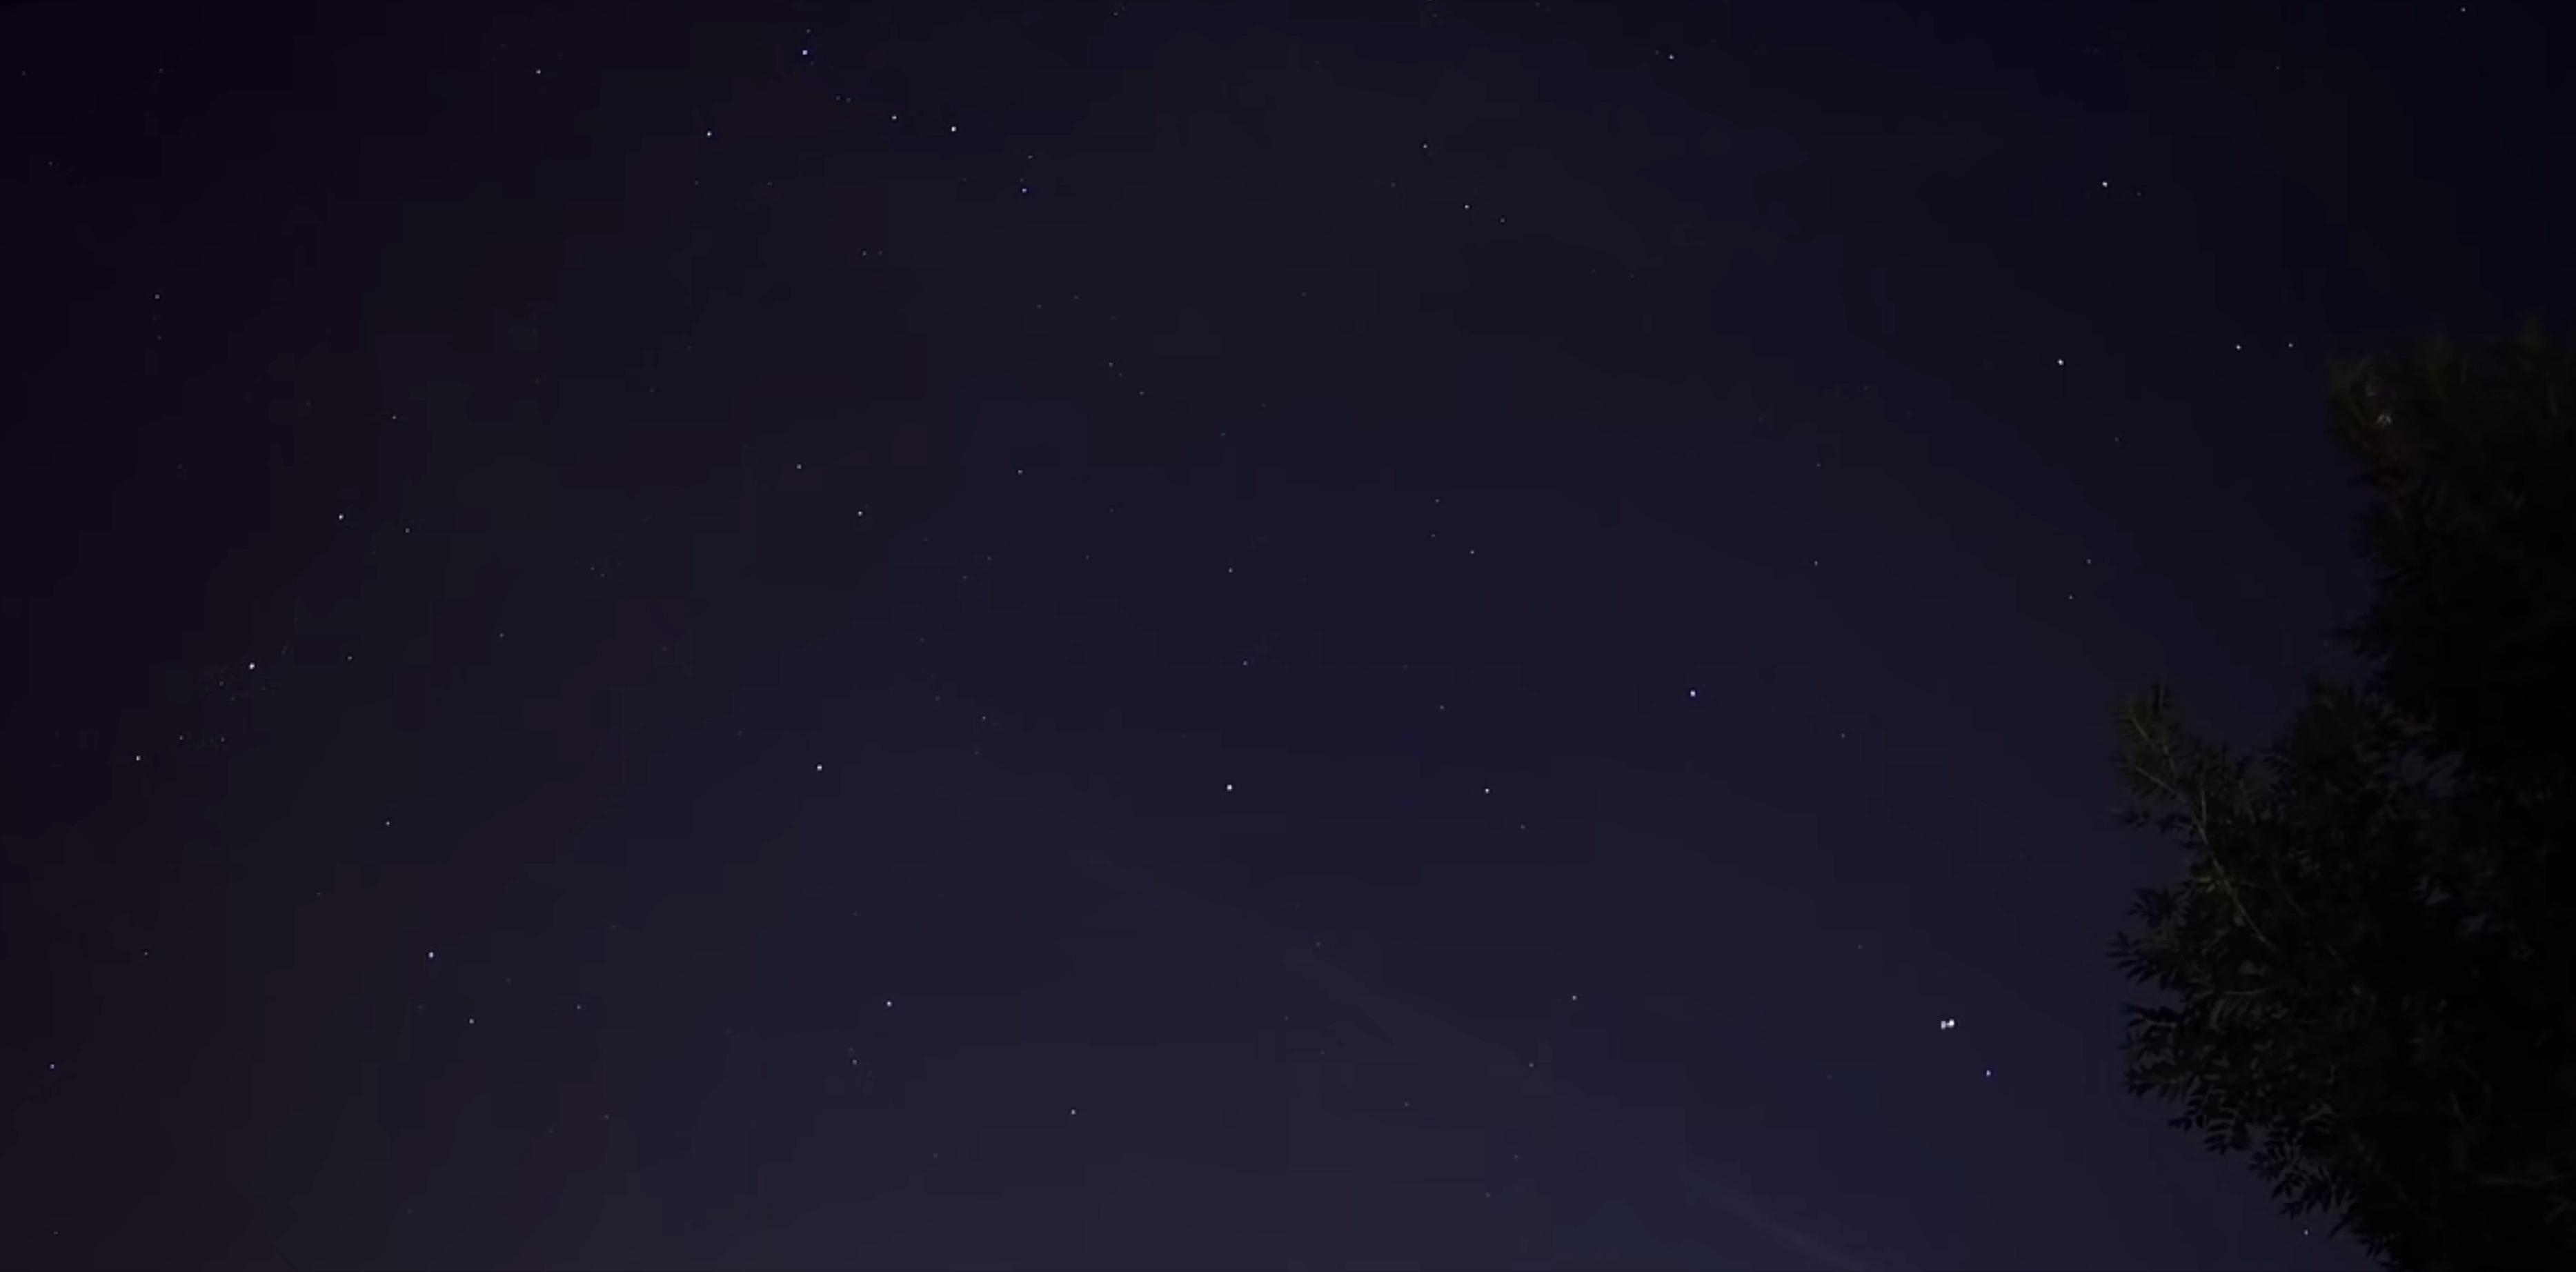Plane: (1920, 1009, 1975, 1037)
